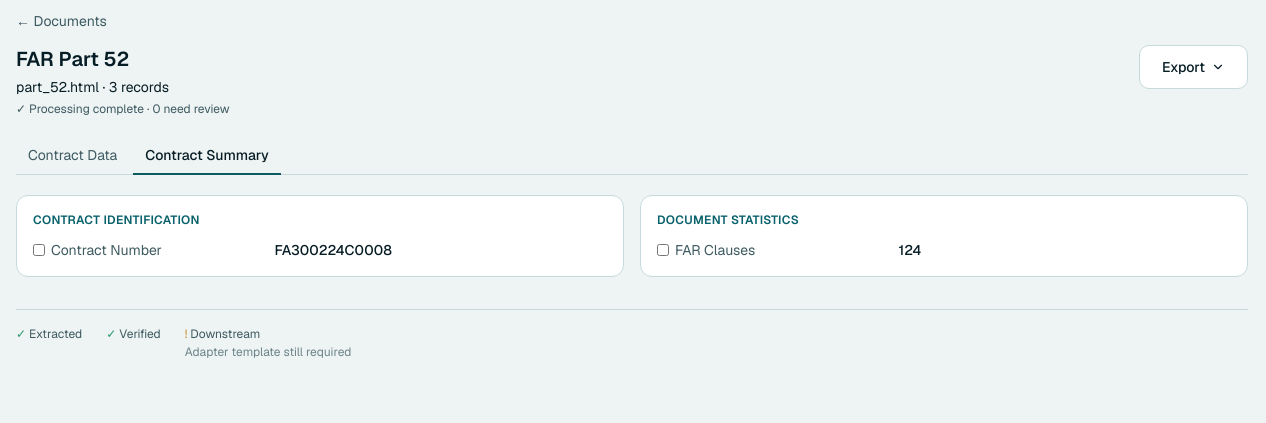
Scenario: DocumentWorkspace for a contract › selects Contract Summary lines for export without touching their review state
Expected: the heading "Contract Identification" is shown, [33, 212, 200, 228]
Click the checkbox named "Select Contract Number". click: {"x": 39, "y": 250}
box: [33, 244, 45, 256]
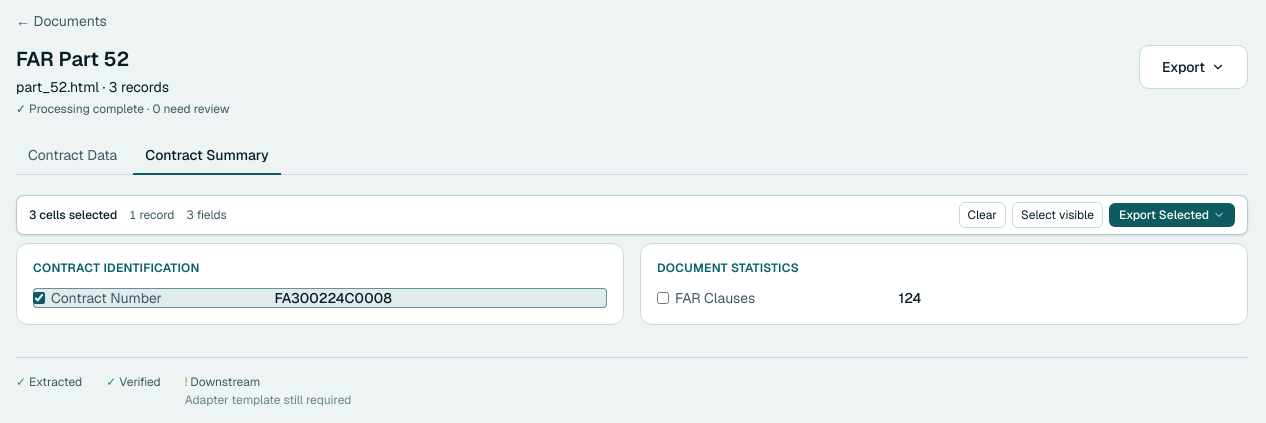
Result: the element with test id "selection-toolbar" reads "3 cells selected 1 record 3 fields Clear Select visible Export Selected" at [16, 195, 1248, 235]
Click the button "Export". click: {"x": 1193, "y": 67}
box: [1139, 45, 1248, 89]
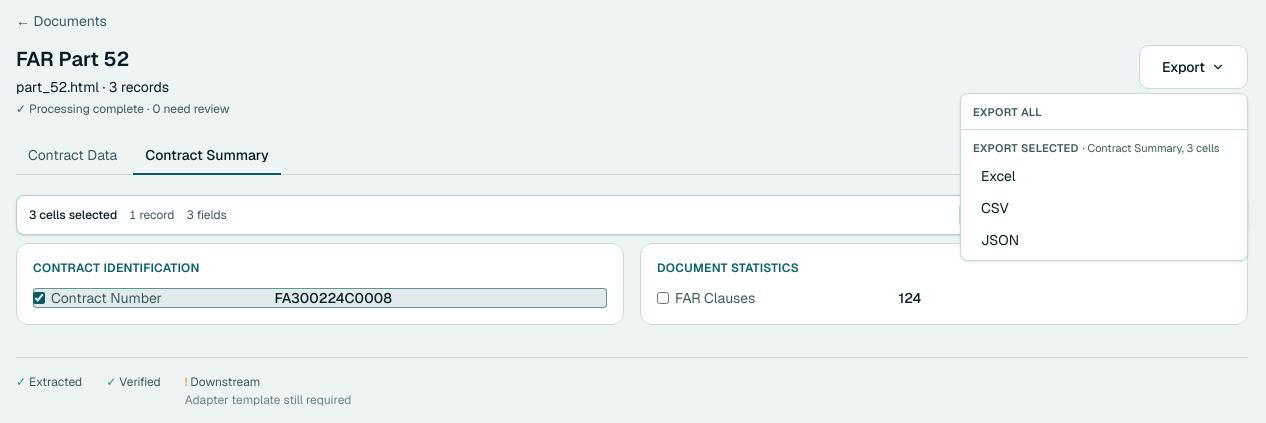
Result: the menu item "CSV" is enabled at [961, 192, 1247, 224]
